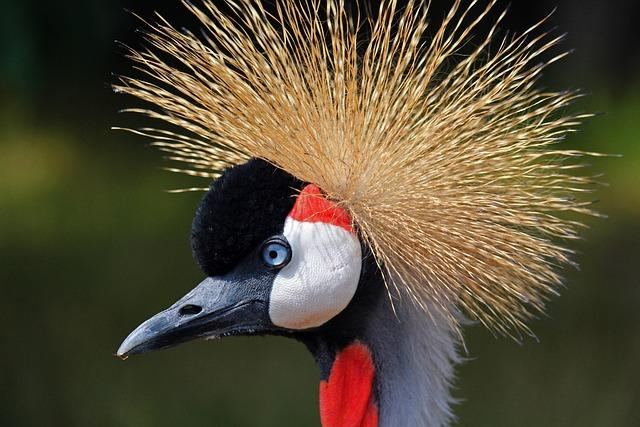Non_Gorille: (50, 7, 640, 427)
